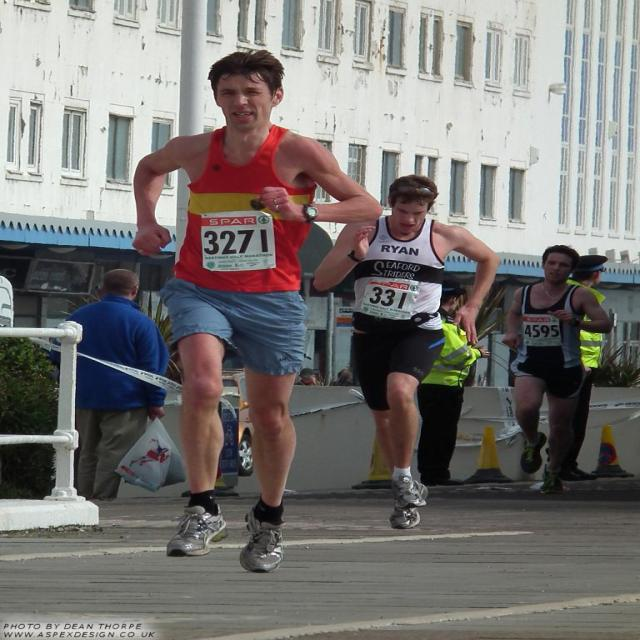Bib: (202, 230, 276, 260), (362, 289, 412, 314), (526, 323, 561, 342)
